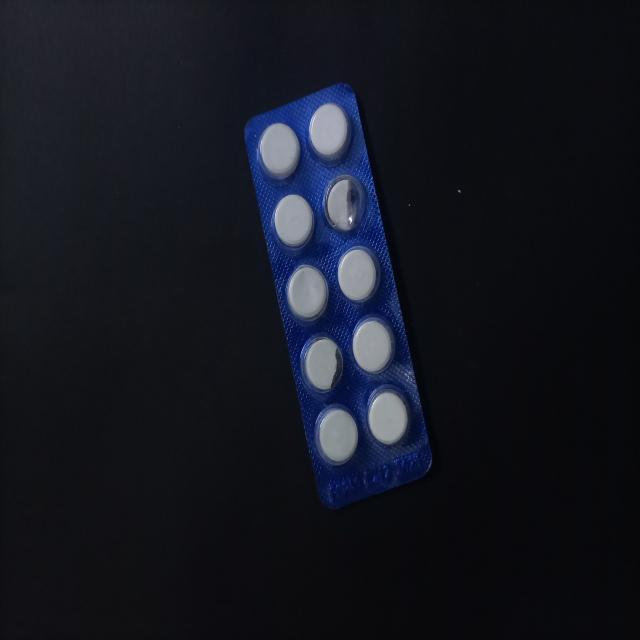defect: (298, 330, 346, 400), (322, 172, 369, 237)
